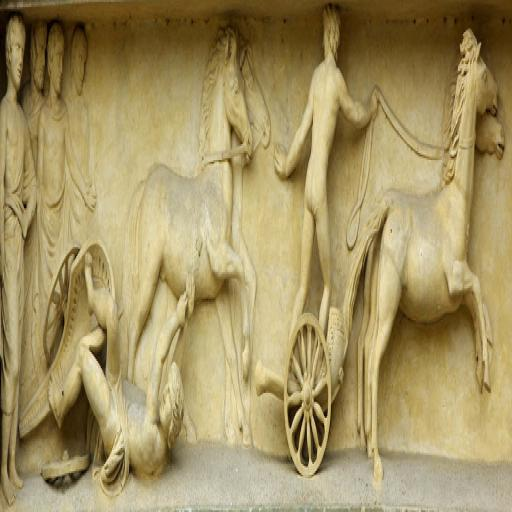horse: (342, 24, 498, 488), (116, 20, 254, 458), (354, 77, 506, 461), (146, 28, 276, 442)
